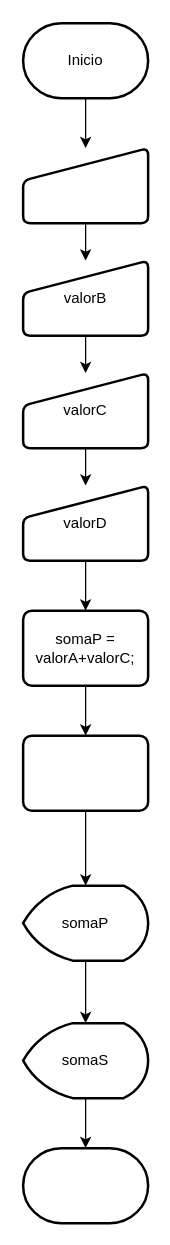
The diagram is 170 pixels wide and 1245 high, and some of its shapes have lost their labels. The centre of each missing label's shape, as x and y in pixels:
"Fim" goes at pixel 85 1185.
"somaS = valorB+valorD;" goes at pixel 85 772.
"valorA" goes at pixel 85 185.
